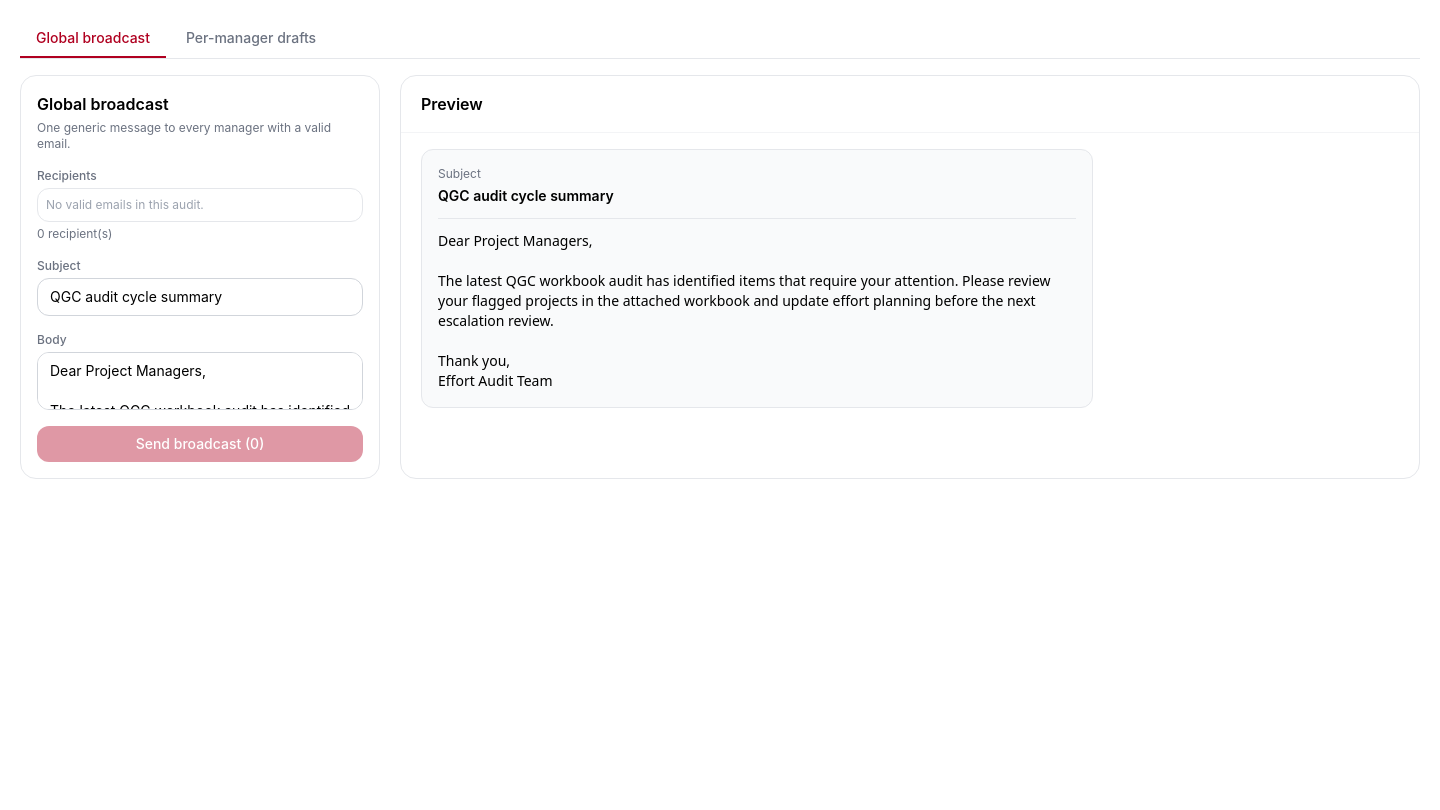
notification preview renders pending correction context
What coordinates should you click on to do the following:
click the button "Per-manager drafts"
I would click on:
 (251, 39)
Its box is [170,20,332,58].
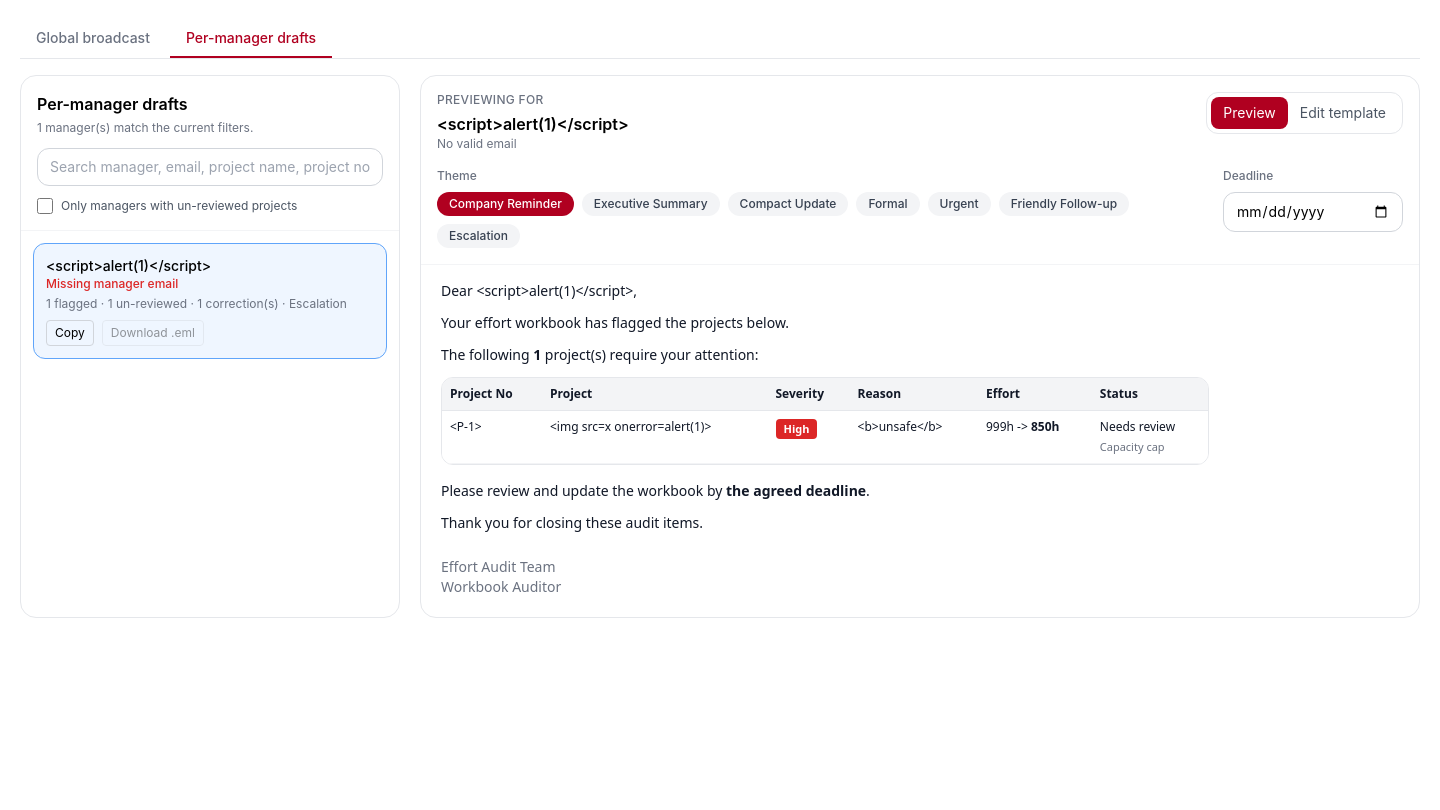
Now the text "999h -> 850h" is shown, box [978,410,1092,464]
Now the text "850h" is shown, box [1031,418,1059,435]
Now the text "Capacity cap" is shown, box [1100,439,1165,454]
